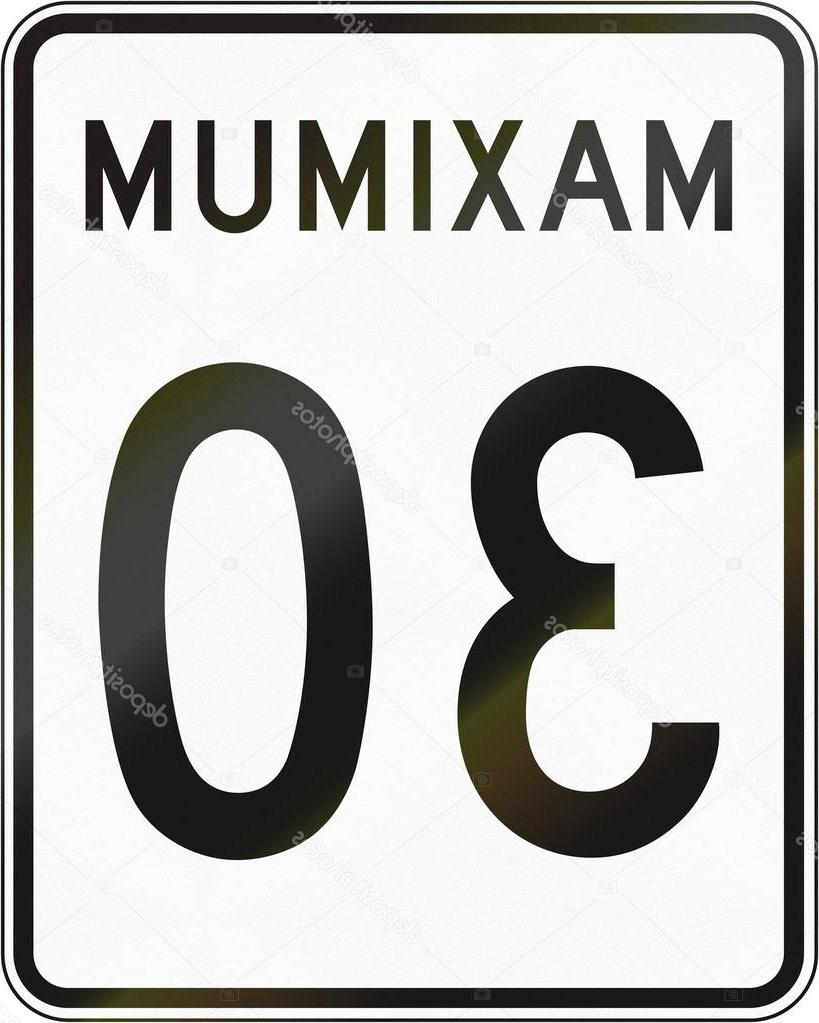speed limit sign: (0, 7, 815, 1017)
